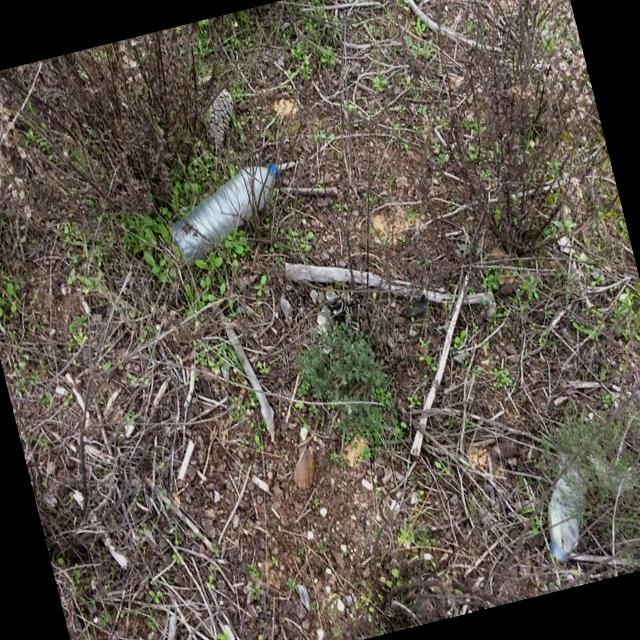Recycle: (156, 159, 296, 266)
